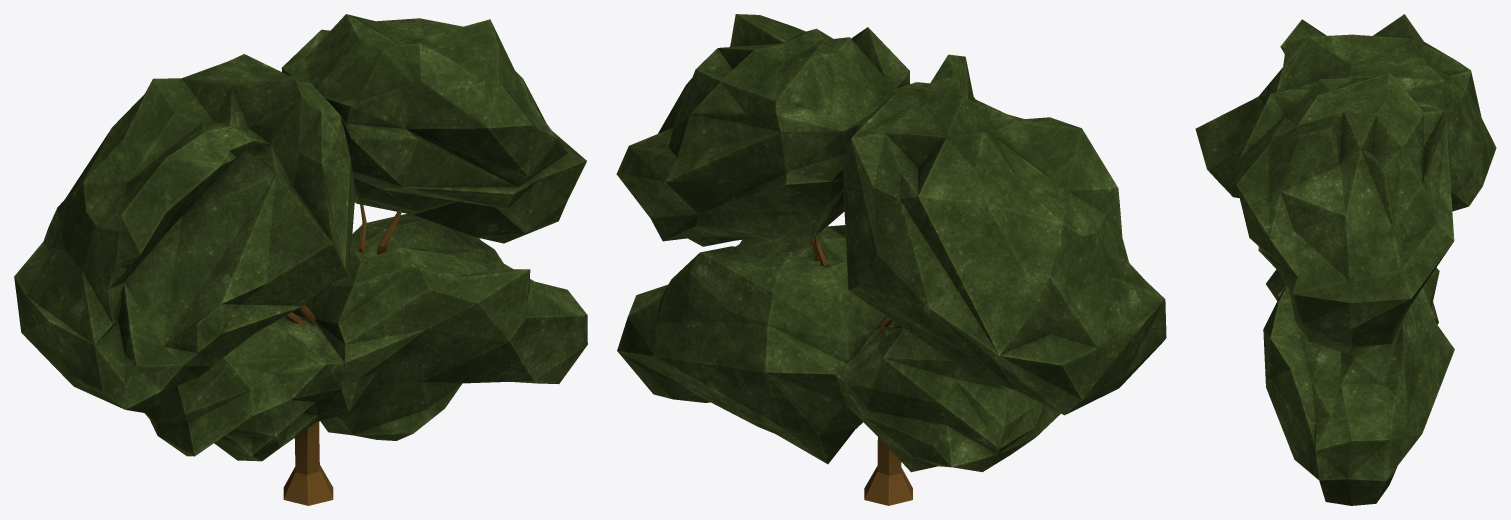
File: ash-tree.glb
3 views of the same model, side by side, from view 1: azimuth 30°, elevation 25°; view 2: azimuth 150°, elevation 25°; view 3: azimuth 270°, elevation 25° (orthographic). The views are drawn at different scales.
Parts seen in each view (by area): view 1: AshTree_mesh; view 2: AshTree_mesh; view 3: AshTree_mesh.
Part boxes in pixels (left/top/right/bottom): AshTree_mesh: left=14, top=14, right=587, bottom=505; AshTree_mesh: left=616, top=14, right=1166, bottom=505; AshTree_mesh: left=1195, top=14, right=1496, bottom=505.
Bounding box in the file's own units: 16.81 × 13.89 × 9.29.
Materials: 1 (1 with a texture image).
